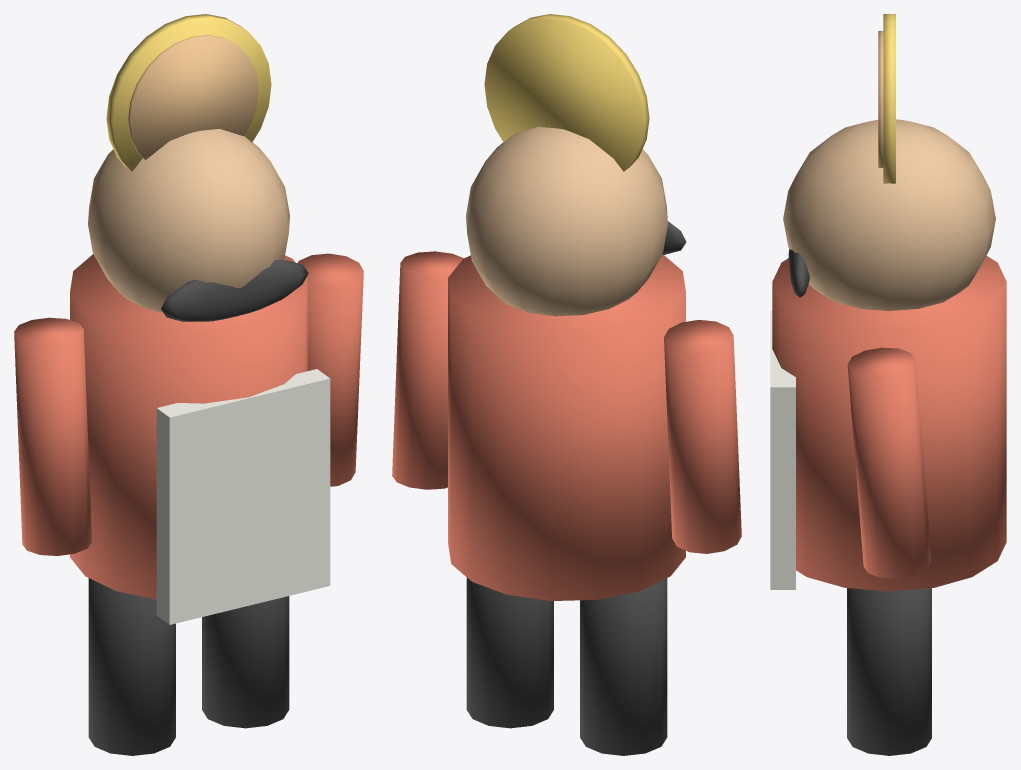
The model's file is cayci.glb.
3 views of the same model, side by side, from view 1: azimuth 30°, elevation 25°; view 2: azimuth 150°, elevation 25°; view 3: azimuth 270°, elevation 25° (orthographic). The views are drawn at different scales.
Parts seen in each view (by area): view 1: Önlük, Gövde, Baş, Kol, Bacak, AvatarFrame, Bacak.001, Kol.001, AvatarFrame_Rim, Bıyık; view 2: Gövde, Baş, AvatarFrame_Rim, Kol, Bacak, Kol.001, Bacak.001; view 3: Gövde, Baş, Kol.001, Bacak.001, Önlük, AvatarFrame_Rim, AvatarFrame, Bıyık.
Boxes of the visible parts, x1=… form: Önlük: x1=156, y1=369, x2=330, y2=624; Gövde: x1=70, y1=254, x2=307, y2=599; Baş: x1=88, y1=129, x2=289, y2=312; Kol: x1=14, y1=317, x2=91, y2=555; Bacak: x1=88, y1=578, x2=175, y2=755; AvatarFrame: x1=128, y1=35, x2=258, y2=159; Bacak.001: x1=202, y1=596, x2=289, y2=728; Kol.001: x1=298, y1=253, x2=363, y2=486; AvatarFrame_Rim: x1=106, y1=14, x2=271, y2=171; Bıyık: x1=161, y1=260, x2=308, y2=321; Gövde: x1=448, y1=255, x2=685, y2=600; Baş: x1=466, y1=127, x2=667, y2=316; AvatarFrame_Rim: x1=484, y1=14, x2=649, y2=171; Kol: x1=664, y1=320, x2=741, y2=553; Bacak: x1=580, y1=578, x2=667, y2=755; Kol.001: x1=392, y1=251, x2=463, y2=489; Bacak.001: x1=466, y1=577, x2=553, y2=728; Gövde: x1=772, y1=255, x2=1006, y2=591; Baş: x1=783, y1=119, x2=995, y2=310; Kol.001: x1=847, y1=347, x2=931, y2=578; Bacak.001: x1=847, y1=588, x2=931, y2=755; Önlük: x1=770, y1=311, x2=795, y2=589; AvatarFrame_Rim: x1=883, y1=14, x2=895, y2=183; AvatarFrame: x1=878, y1=31, x2=883, y2=167; Bıyık: x1=788, y1=249, x2=809, y2=297.
Size of the model in its own units: 1.76 by 3.57 by 1.11.
